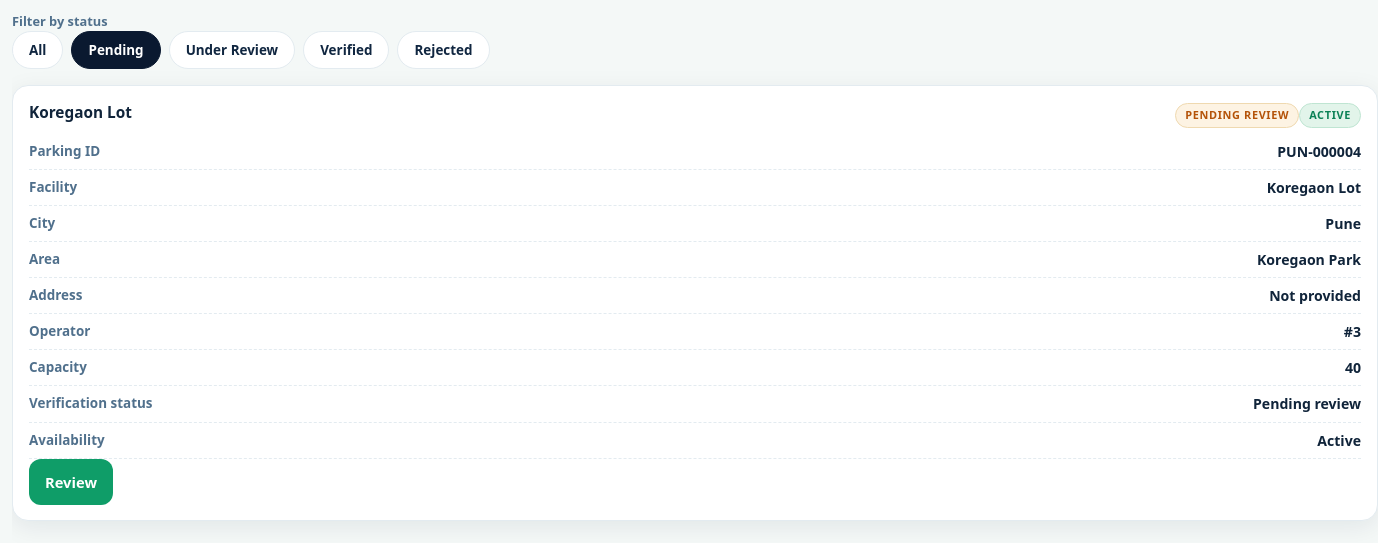
Test case: AdminFacilities › reviews a pending facility and refreshes the list
Click the button with class "admin-facility-review-button" at (71, 482), box [29,459,113,505]
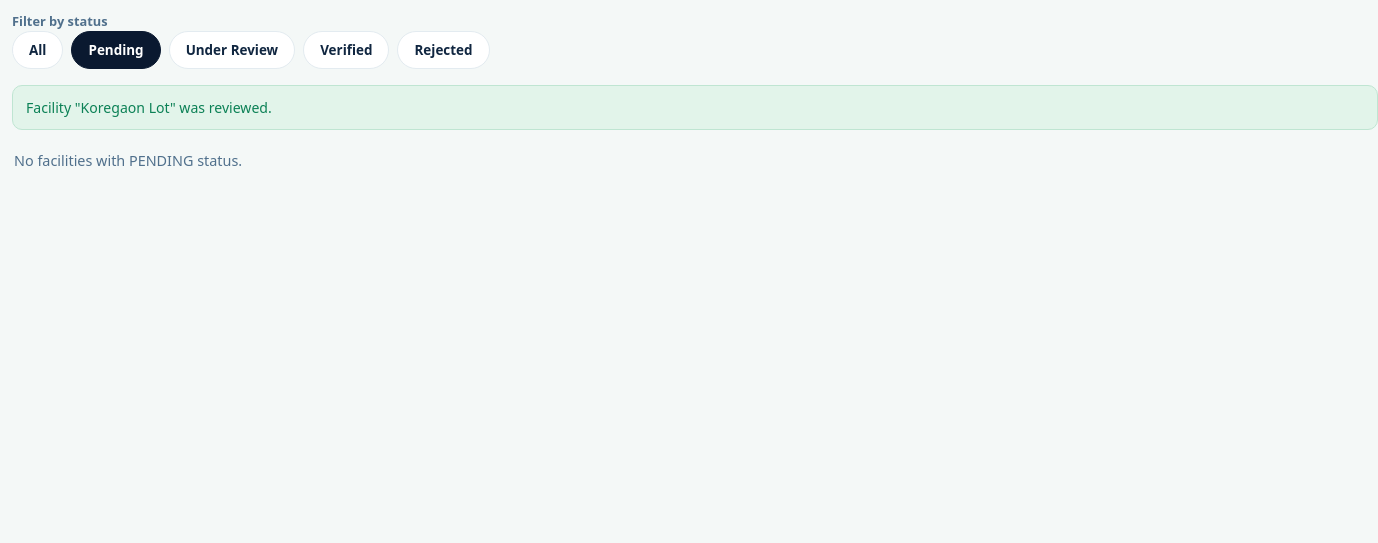
Expected: the message "Facility \"Koregaon Lot\" was reviewed." is shown, [12,85,1377,130]
